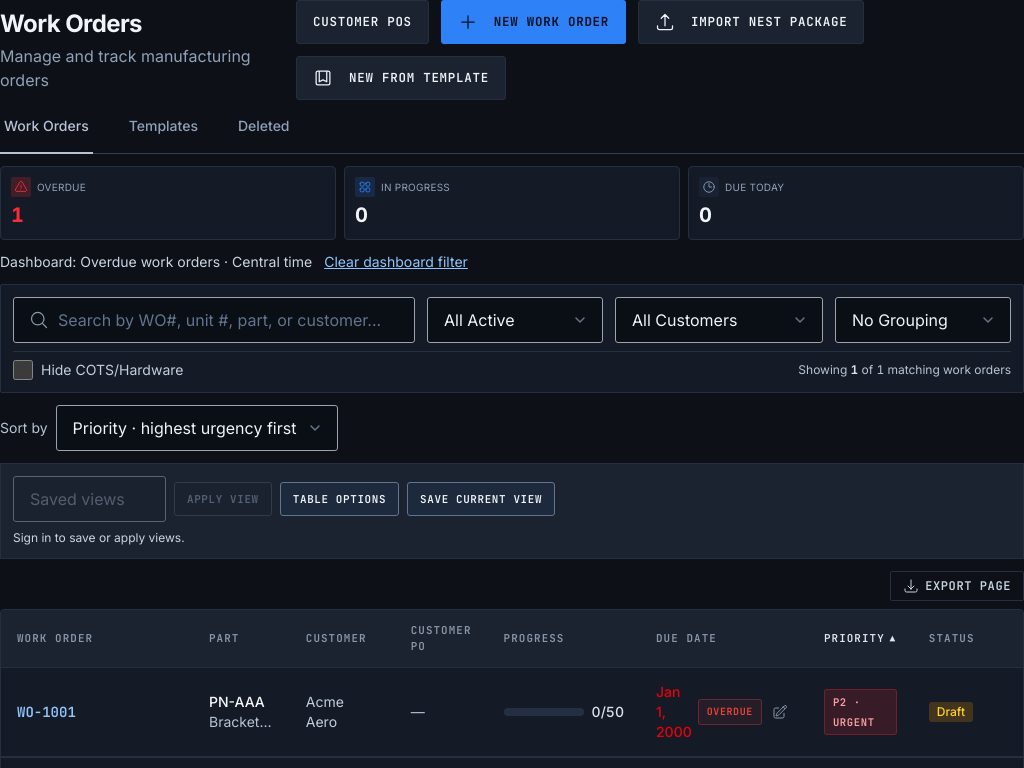
Test case: Dashboard work-order drill-down scope › includes overdue COTS from the dashboard while excluding completed or future jobs
Expected: the link "WO-1002" is not shown
Expected: the link "WO-DONE" is not shown
Click the button "Clear dashboard filter" at (396, 262), box [324,252,468,272]
(page scrolled)
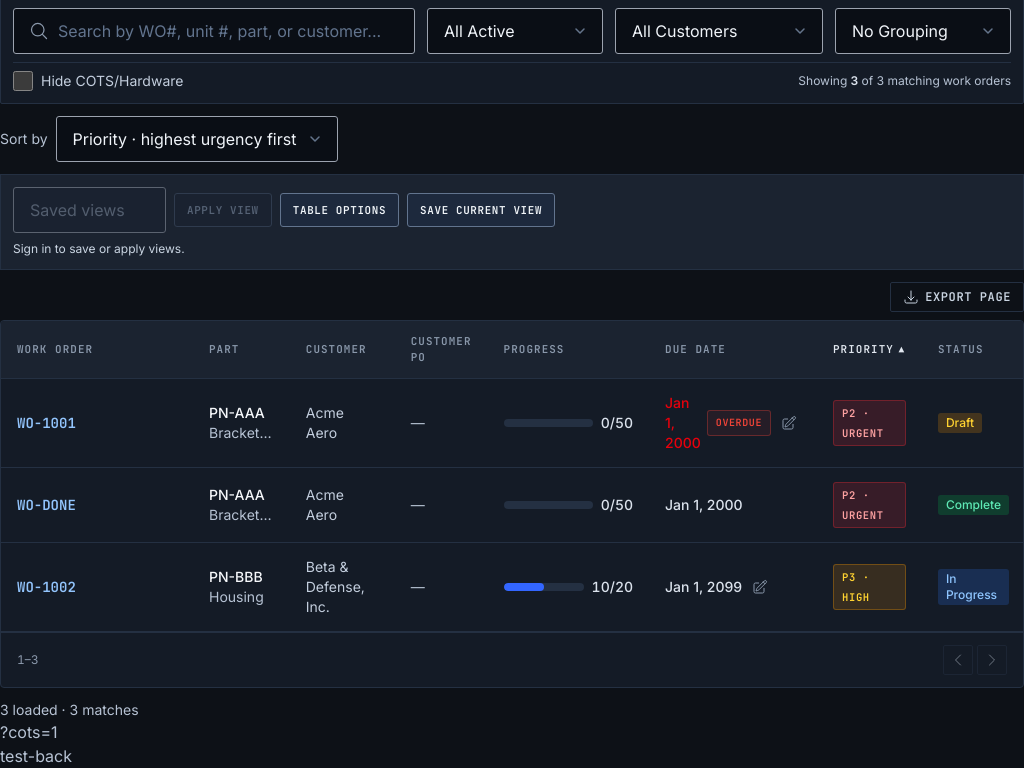
Expected: the number of links "WO-1002" is 1, [17,578,76,596]
Expected: the text with test id "location-search" reads "?cots=1", [0,722,58,742]
